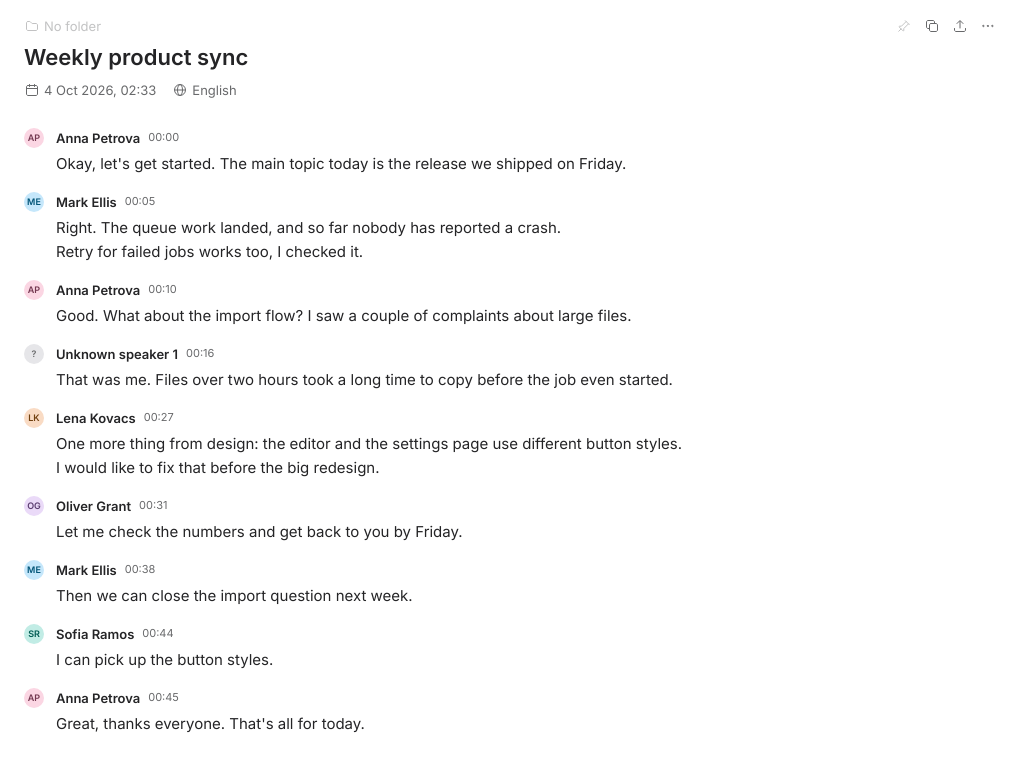
Test case: content › an unknown speaker is numbered, and is an ordinary turn
The image size is (1024, 768).
Click the button "? Unknown speaker 1" at (101, 354), box [24, 344, 178, 364]
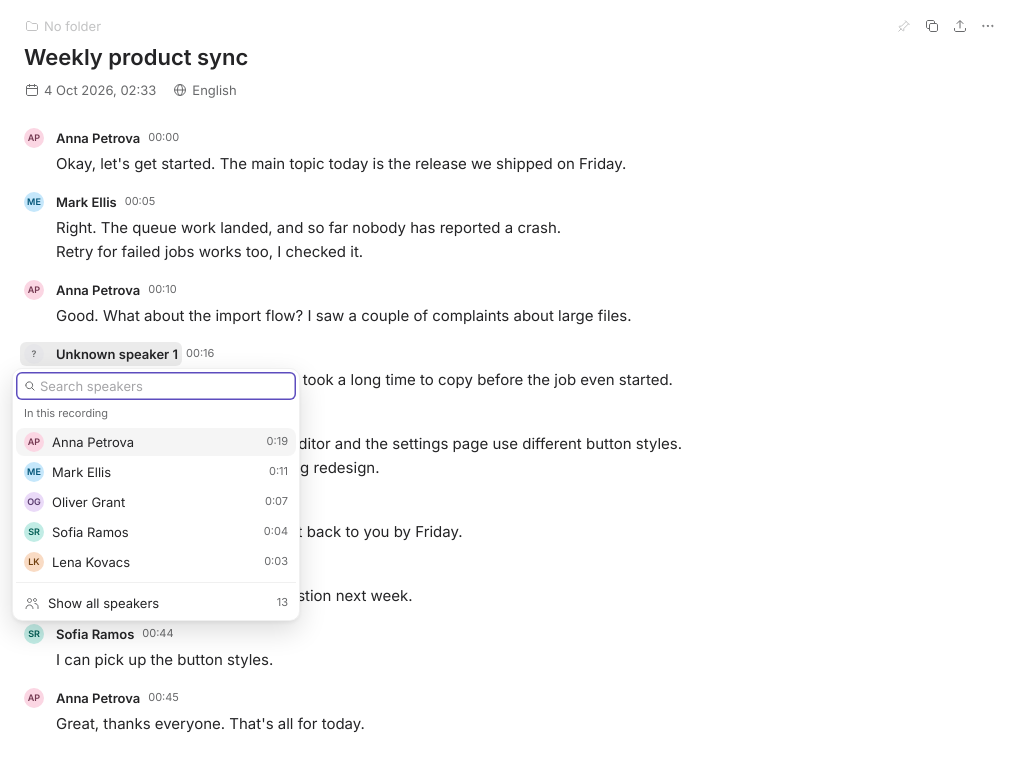
Check: the dialog named "Change speaker" is shown, box [12, 368, 300, 621]
